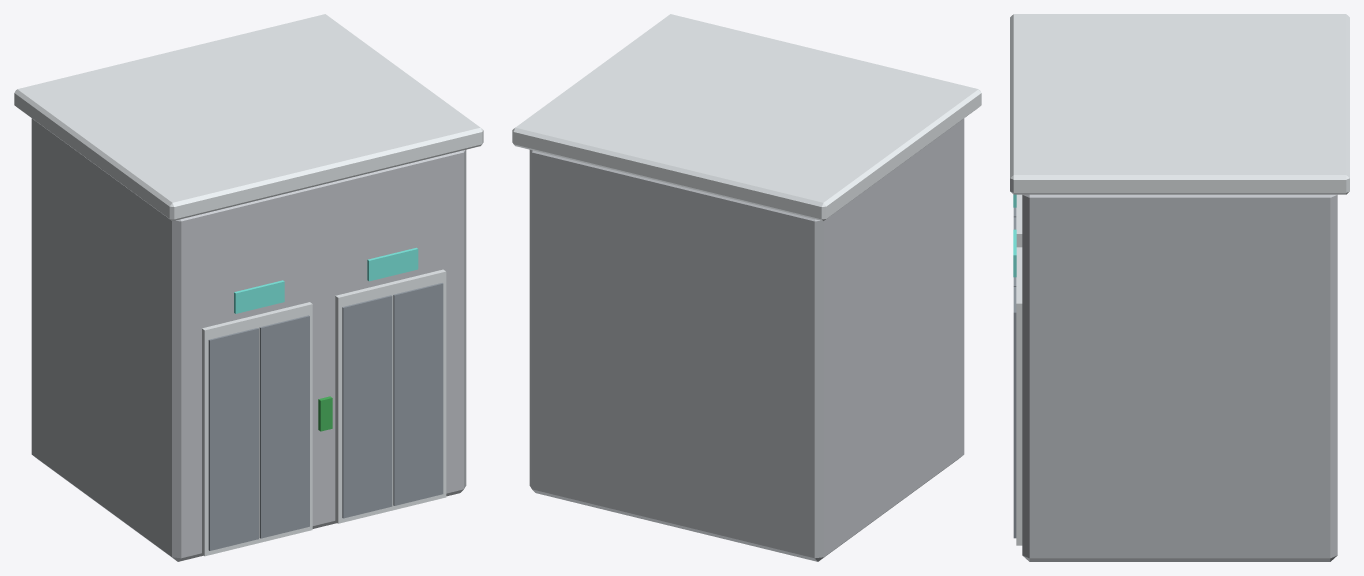
Rendered from lift.fbx.
3 renders of one model, left to right at view 1: azimuth 30°, elevation 25°; view 2: azimuth 150°, elevation 25°; view 3: azimuth 270°, elevation 25°, orthographic. The views are drawn at different scales.
Parts seen in each view (by area): view 1: lift; view 2: lift; view 3: lift.
Part boxes in pixels (x1,y1,x2,y2): lift: (14, 14, 483, 561); lift: (512, 14, 981, 561); lift: (1010, 14, 1349, 561).
Bounding box in the file's own units: 3.2 × 3.58 × 2.8.
